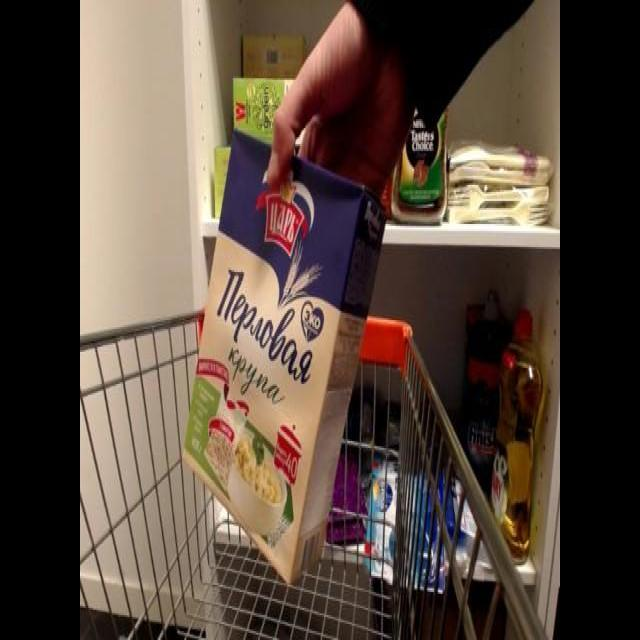Groats: (177, 124, 387, 594)
